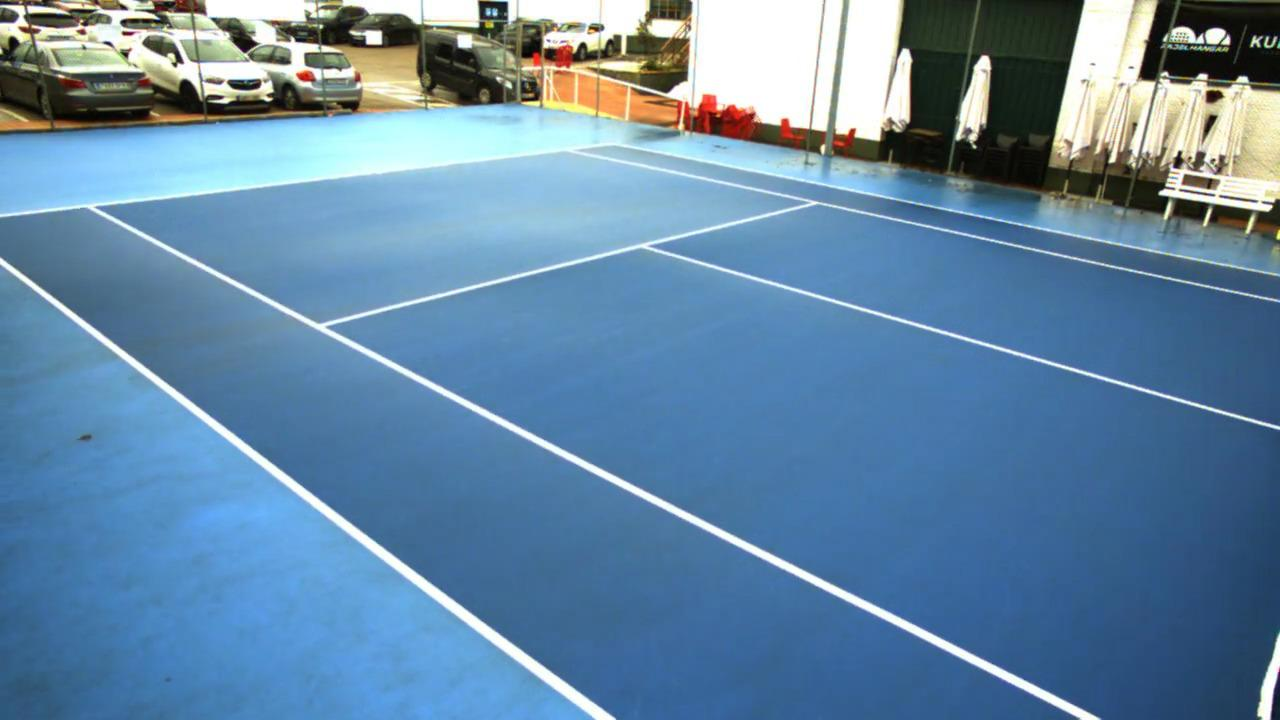cancha_tenis: (86, 149, 1280, 720)
point_f1: (80, 195, 107, 217)
point_f2: (561, 141, 585, 159)
point_i1: (307, 315, 342, 338)
point_i2: (798, 194, 827, 214)
point_ic1: (632, 234, 660, 256)
